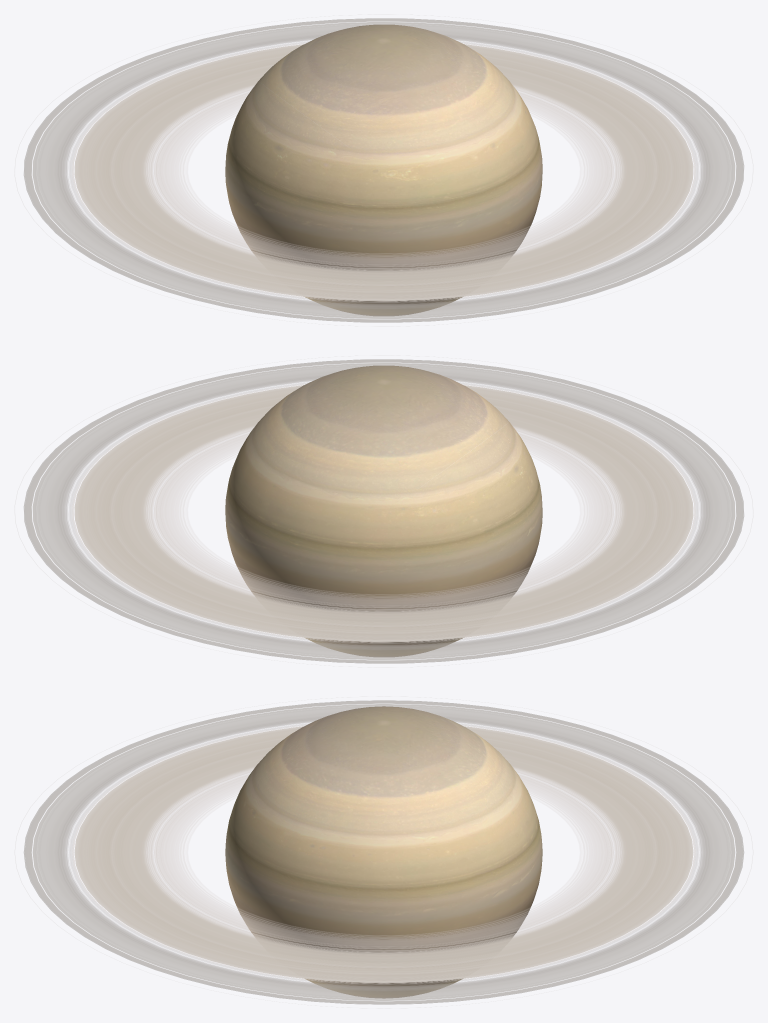
File: saturnGlb.glb
3 views of the same model, one above another, from view 1: azimuth 30°, elevation 25°; view 2: azimuth 150°, elevation 25°; view 3: azimuth 270°, elevation 25° (orthographic).
Visible parts, largest first — view 1: RingsTop, Saturn.001; view 2: RingsTop, Saturn.001; view 3: RingsTop, Saturn.001.
Boxes of the visible parts, bbox=[...] form: RingsTop: bbox=[23, 18, 744, 322]; Saturn.001: bbox=[225, 24, 542, 315]; RingsTop: bbox=[23, 359, 744, 663]; Saturn.001: bbox=[225, 365, 542, 656]; RingsTop: bbox=[23, 700, 744, 1004]; Saturn.001: bbox=[225, 706, 542, 998].
Size of the model in its own units: 42.4 by 16.41 by 42.4.
Materials: 2 (2 with a texture image).
